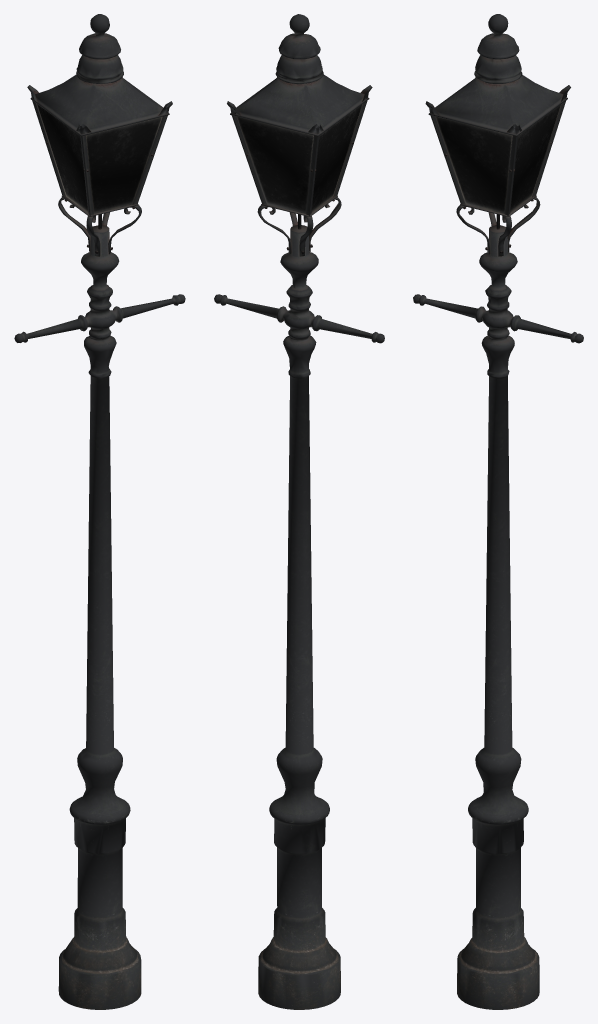
Rendered from street_lamp_01.glb.
3 views of the same model, side by side, from view 1: azimuth 30°, elevation 25°; view 2: azimuth 150°, elevation 25°; view 3: azimuth 330°, elevation 25° (orthographic).
Parts seen in each view (by area): view 1: street_lamp_01; view 2: street_lamp_01; view 3: street_lamp_01.
Part boxes in pixels (<box>): street_lamp_01: <box>14,14,185,1009</box>; street_lamp_01: <box>214,14,384,1009</box>; street_lamp_01: <box>413,14,583,1009</box>.
Bounding box in the file's own units: 0.7034 × 3.87 × 0.3857.
2 materials, 2 textured.
